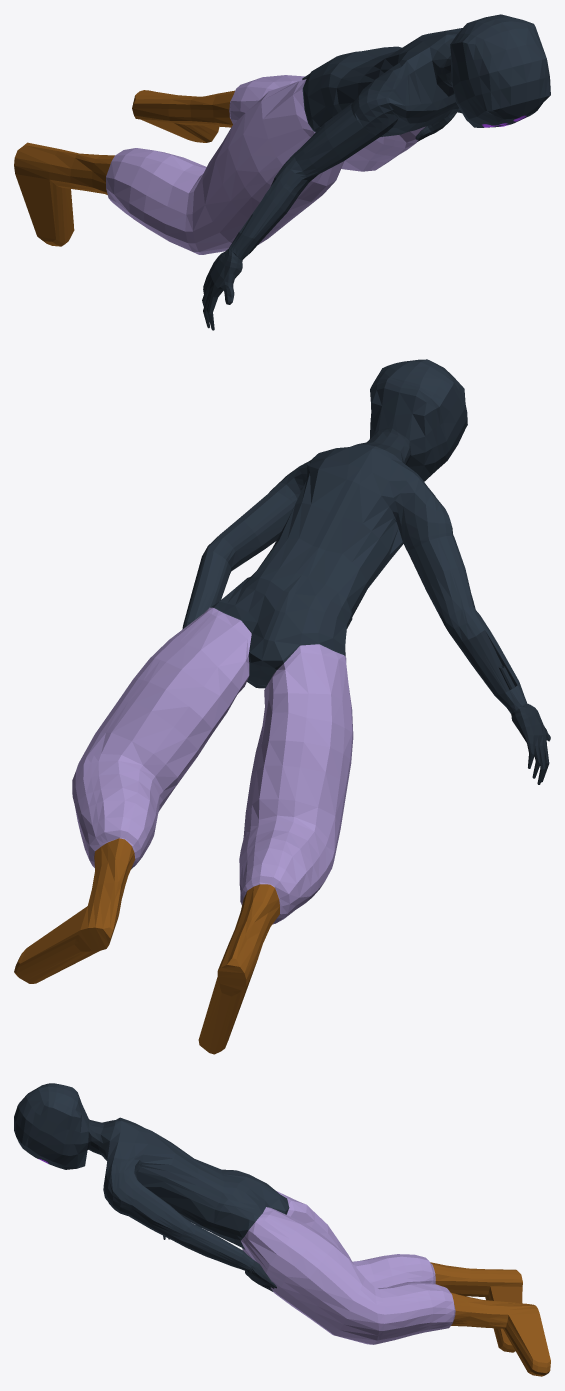
File: Oracle_Die_000009.obj
The picture shows the model from 3 angles, top to bottom: view 1: azimuth 30°, elevation 25°; view 2: azimuth 150°, elevation 25°; view 3: azimuth 270°, elevation 25°; orthographic projection. The views are drawn at different scales.
Parts seen in each view (by area): view 1: Cube; view 2: Cube; view 3: Cube.
Part boxes in pixels (x1,y1,x2,y2): Cube: [14, 14, 550, 330]; Cube: [14, 359, 550, 1054]; Cube: [14, 1083, 550, 1376].
Bounding box in the file's own units: 1.77 × 2.22 × 3.52.
